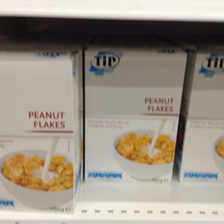cereal: (85, 43, 187, 184), (1, 48, 82, 213), (181, 49, 224, 183)
